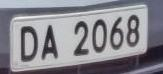0: (88, 16, 111, 55)
2: (71, 15, 91, 64)
6: (109, 14, 127, 53)
8: (123, 11, 144, 53)
A: (41, 19, 62, 65)
D: (18, 22, 41, 66)
